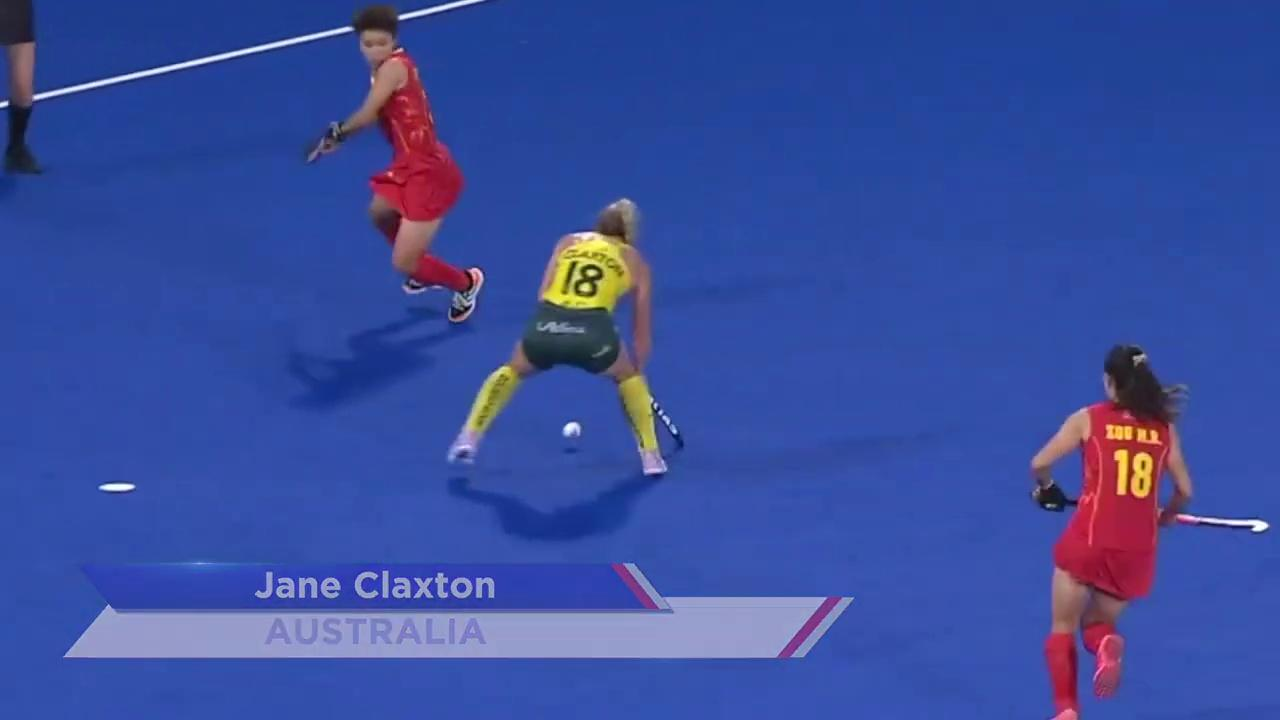ball: (553, 409, 594, 447)
